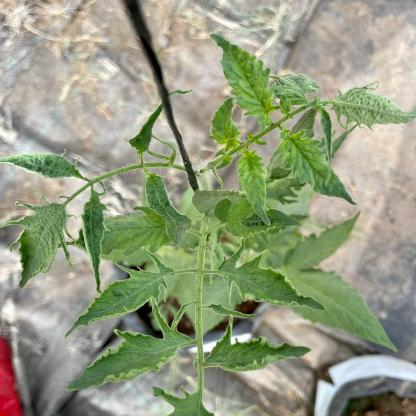T_L_R: (68, 308, 196, 391), (68, 254, 175, 336), (219, 248, 325, 311), (212, 35, 277, 130), (2, 204, 72, 289), (279, 132, 356, 205), (205, 328, 311, 372), (333, 83, 416, 130), (216, 198, 301, 238), (103, 207, 171, 256), (147, 175, 192, 248), (83, 186, 108, 294), (237, 150, 270, 226), (1, 155, 89, 181), (275, 75, 320, 114), (130, 105, 164, 156), (211, 99, 241, 151), (203, 305, 257, 320)
T_S_R: (196, 222, 208, 359)
